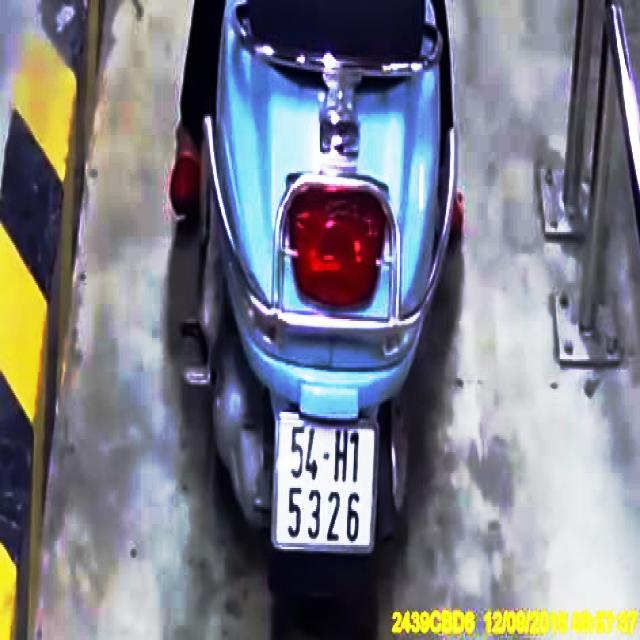license_plate: (273, 419, 382, 553)
